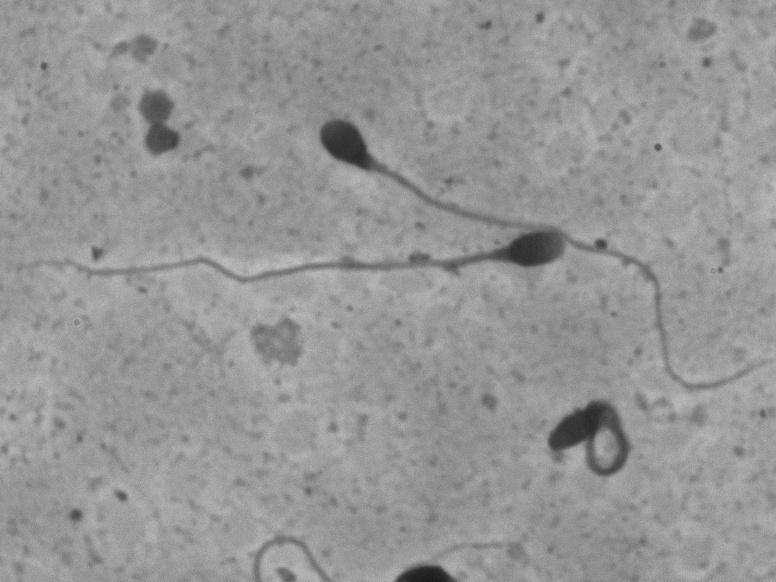Abnormal: (295, 53, 475, 208)
Normal: (22, 231, 588, 303)
